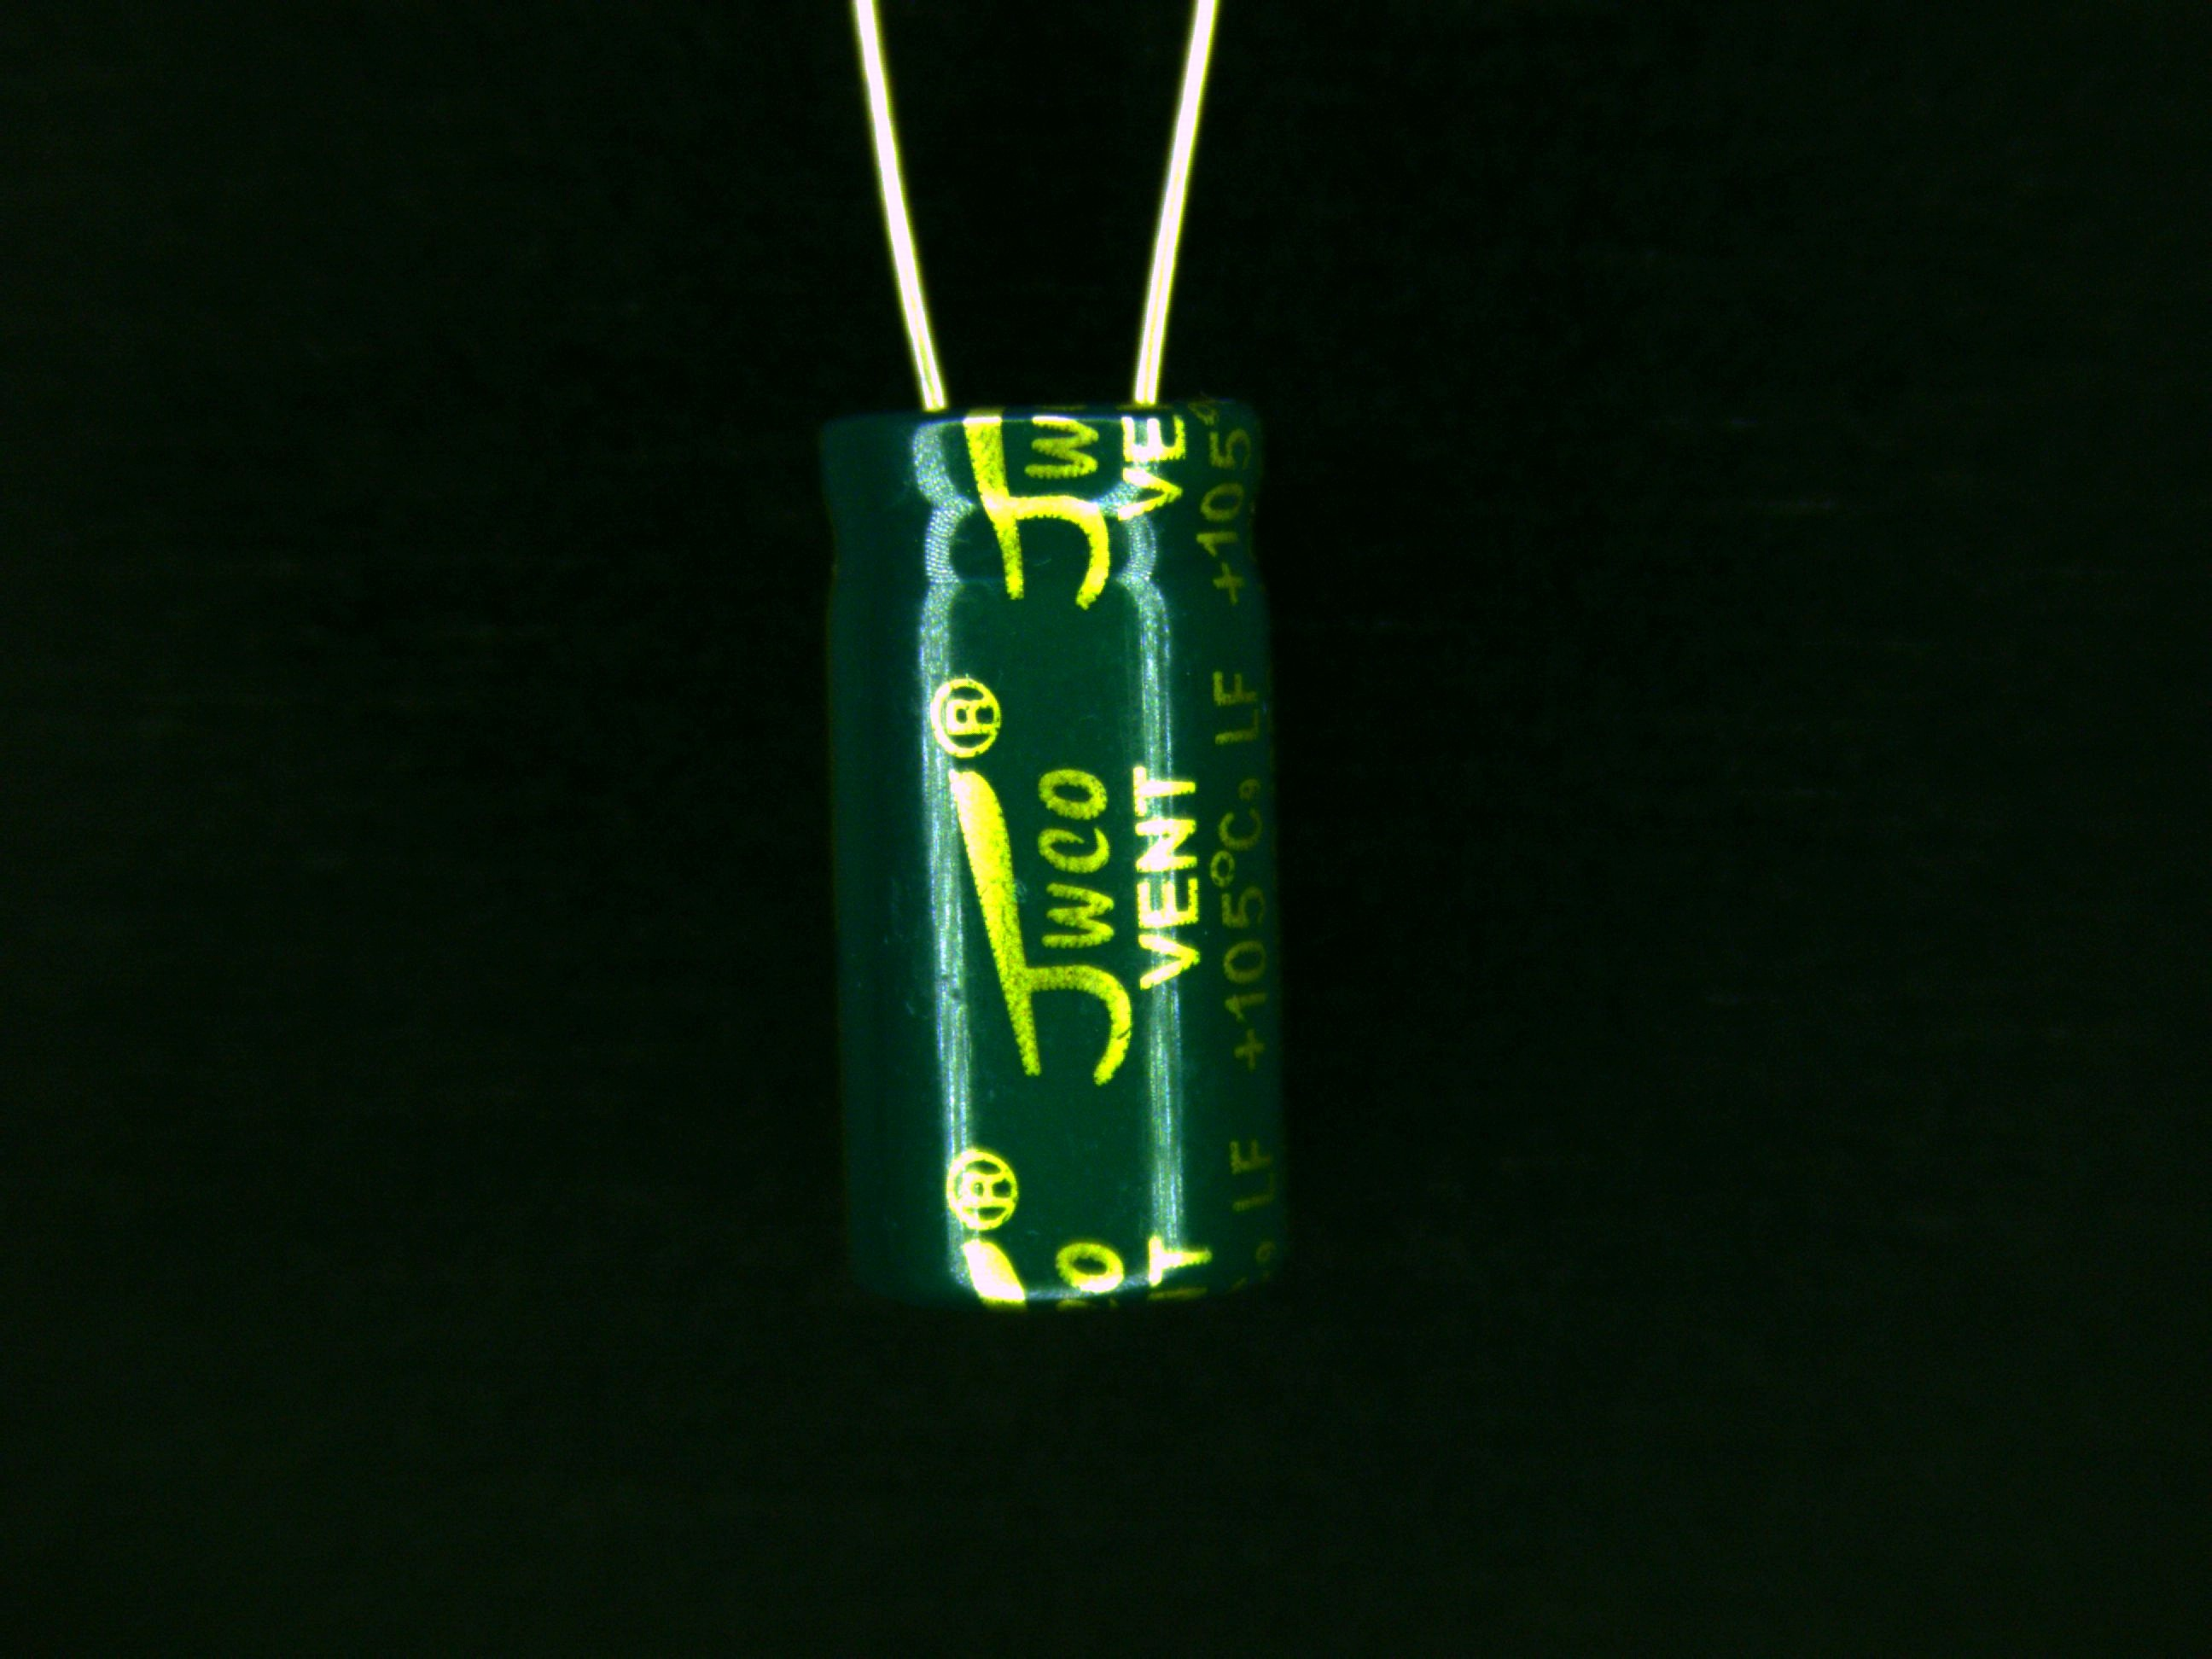c1: (808, 289, 1296, 1316)
